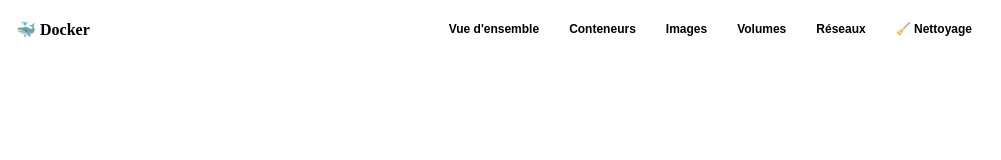
it: reseaux › affiche les details du reseau (driver, scope, interne)
What coordinates should you click on to do the following:
click the button "Réseaux"
I would click on:
 (841, 29)
Its box is 804,16 -> 878,42.
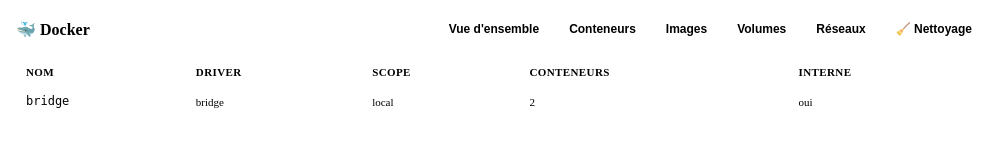
Expected: the row "bridge bridge local 2 oui" is shown, 16,86 -> 984,117
